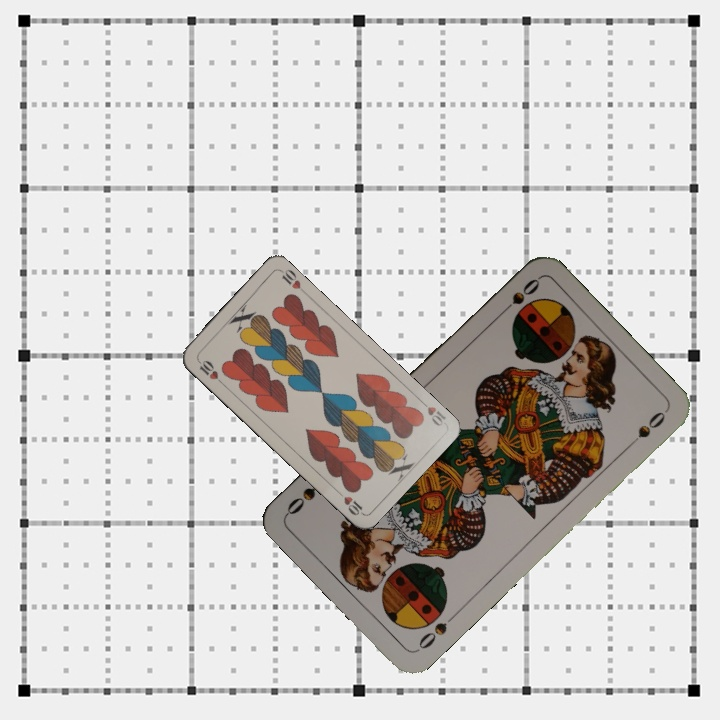H10: (415, 395, 448, 429), (194, 356, 227, 387)
SO: (494, 274, 543, 319), (413, 609, 460, 653)
